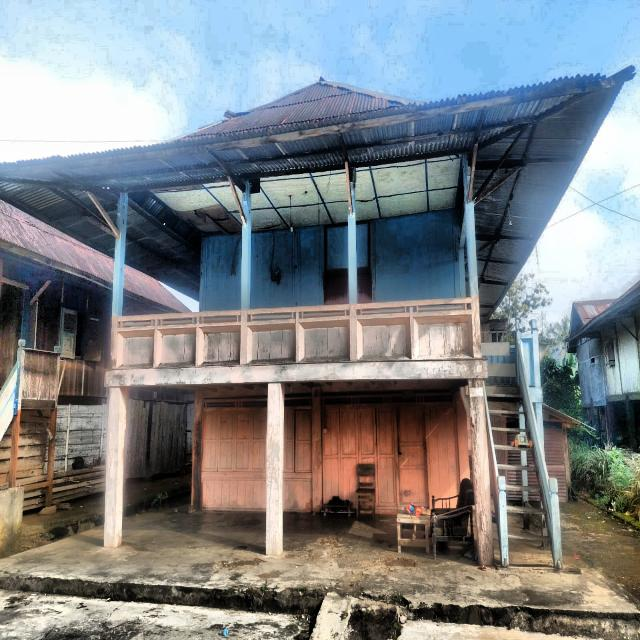column: (468, 379, 494, 566), (104, 387, 126, 547), (266, 382, 285, 556), (397, 405, 429, 507)
door: (0, 283, 24, 391), (324, 272, 349, 305), (357, 272, 371, 303)
ornamen: (413, 315, 474, 359), (357, 317, 411, 360), (299, 320, 350, 362), (247, 323, 296, 364), (198, 325, 241, 366), (156, 328, 197, 367), (117, 330, 154, 368)
roof: (0, 64, 636, 320), (0, 199, 115, 291), (565, 279, 640, 353), (124, 264, 191, 314)
stair: (484, 320, 563, 569), (0, 340, 25, 442)
wall: (321, 401, 461, 515), (28, 280, 112, 397), (355, 209, 455, 304), (250, 222, 349, 309), (200, 407, 268, 511), (124, 398, 186, 478), (199, 234, 242, 312), (600, 319, 640, 402), (283, 409, 312, 513), (576, 338, 606, 408)
window: (60, 307, 102, 361)
